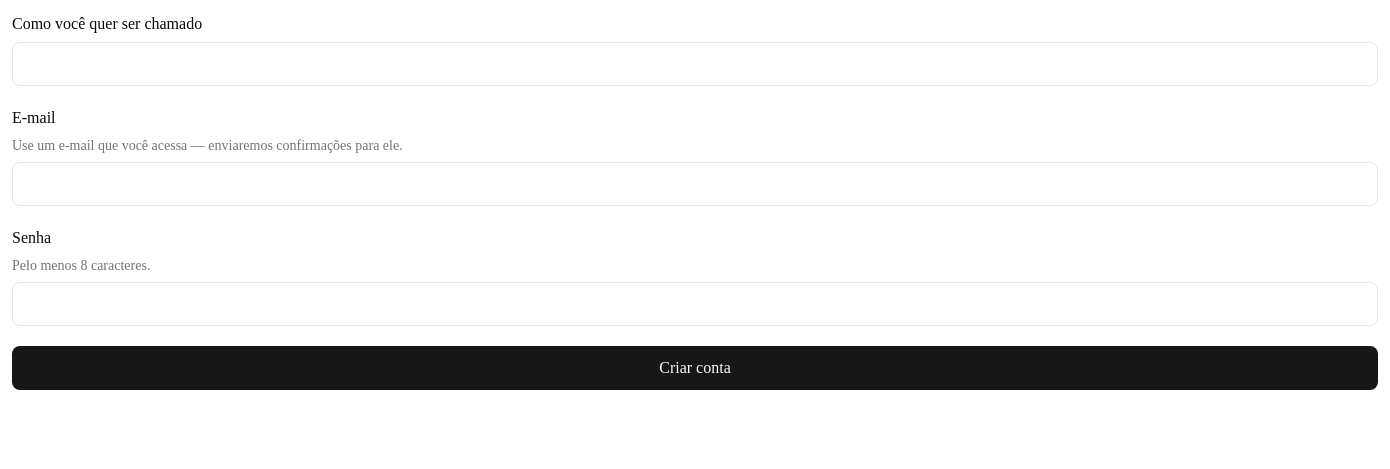
Test case: formulário de criar conta › mostra mensagem humana quando a rede falha
The image size is (1390, 469).
What coordinates should you click on to do the following:
click the button "Criar conta"
I would click on:
 (695, 368)
Its box is [12,346,1378,390].
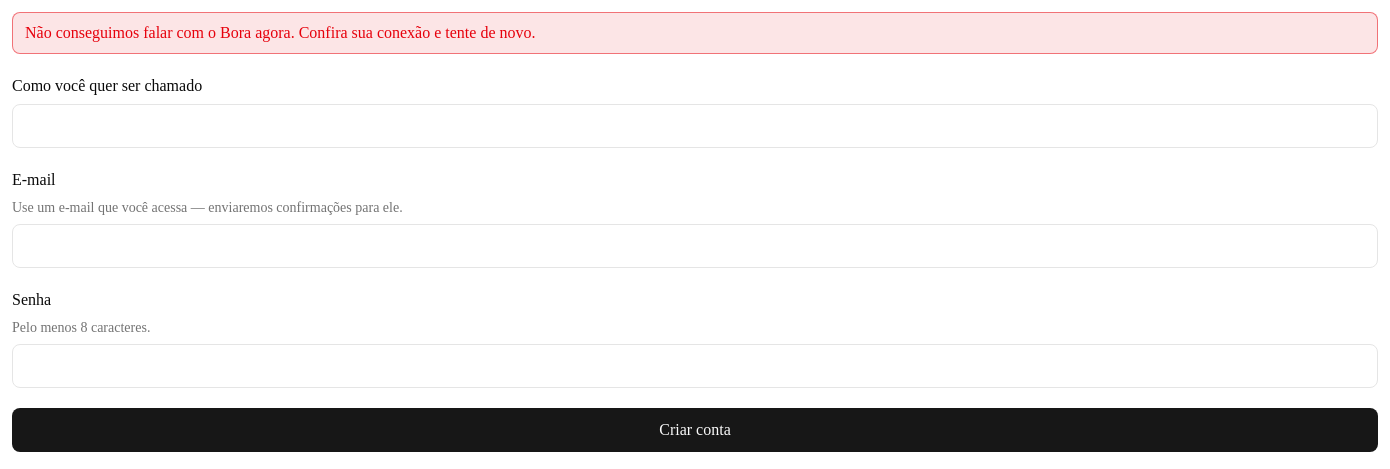
Now the message shows "conexão", box [25,24,536,41]
